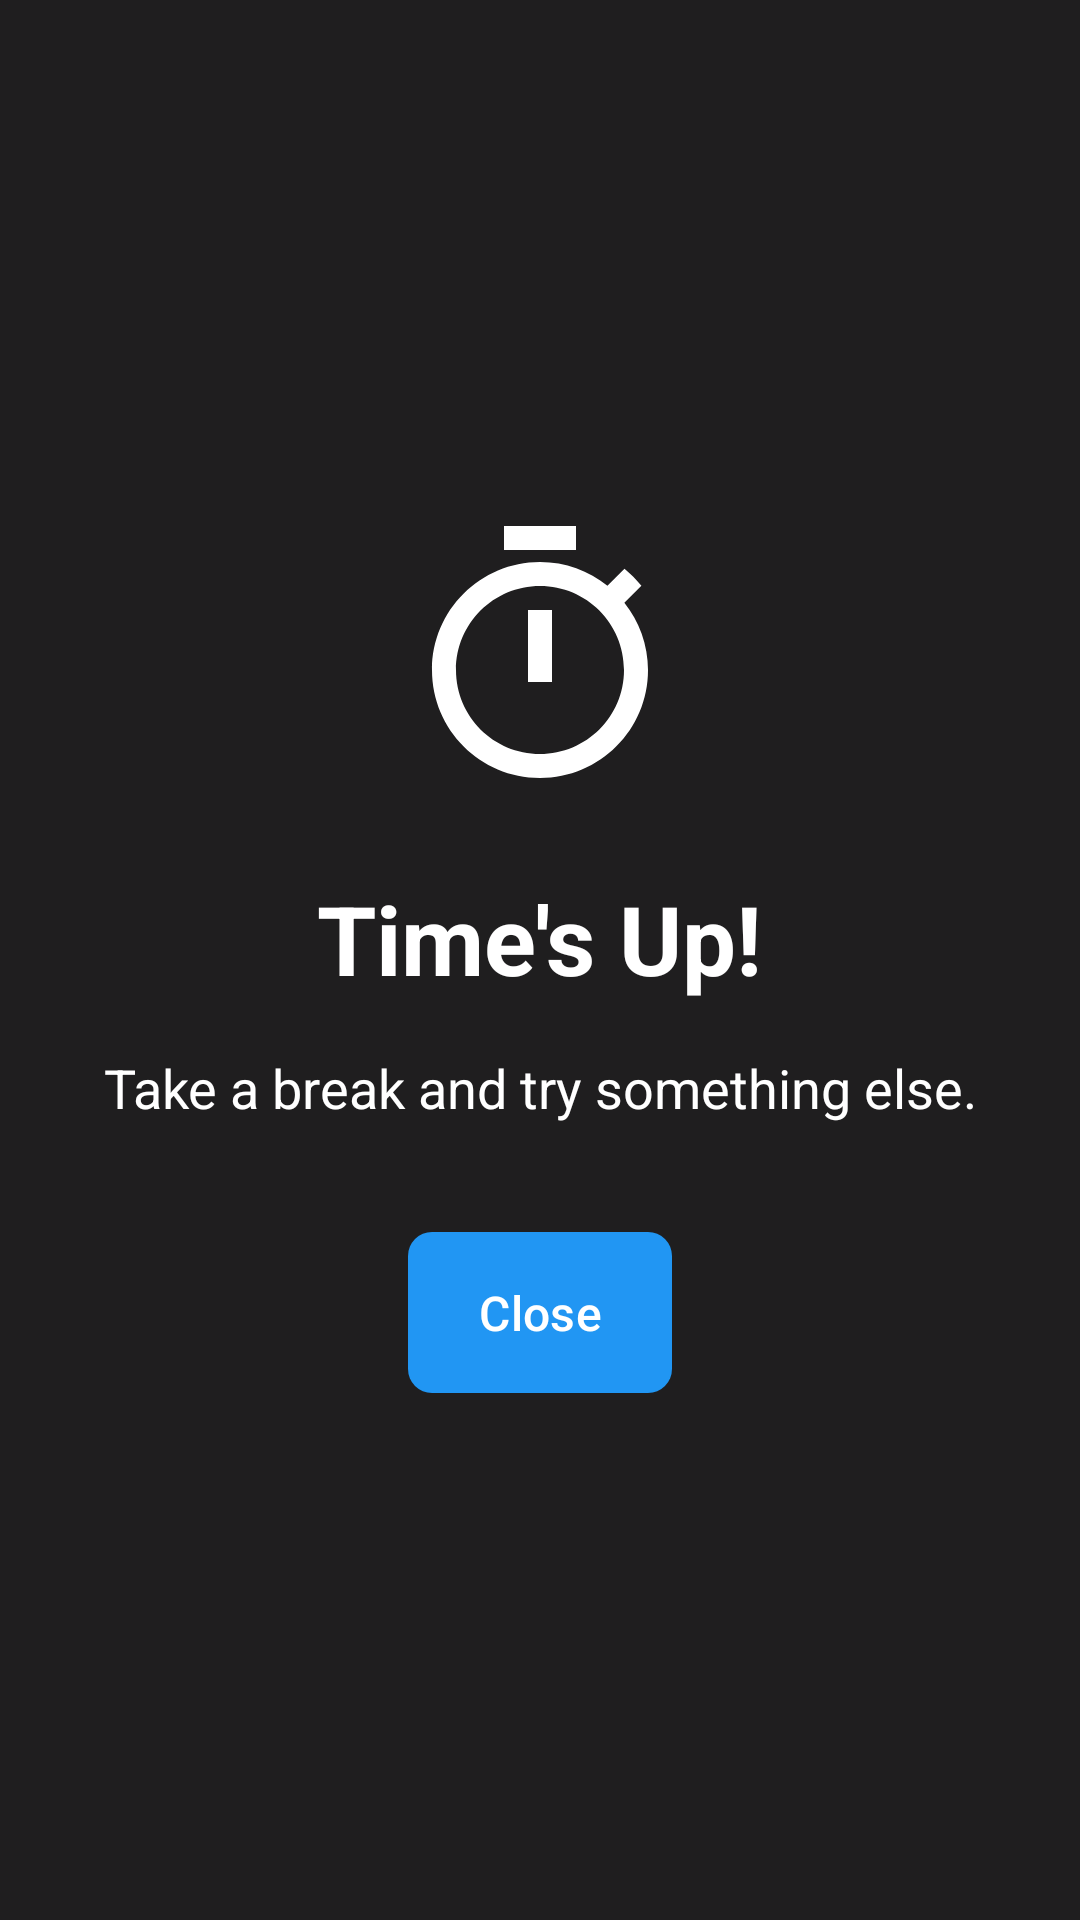

Screen size 1080×1920. Icon name, then its box in pixels as (x1, y1, x2, y2):
timer: (432, 526, 648, 778)
